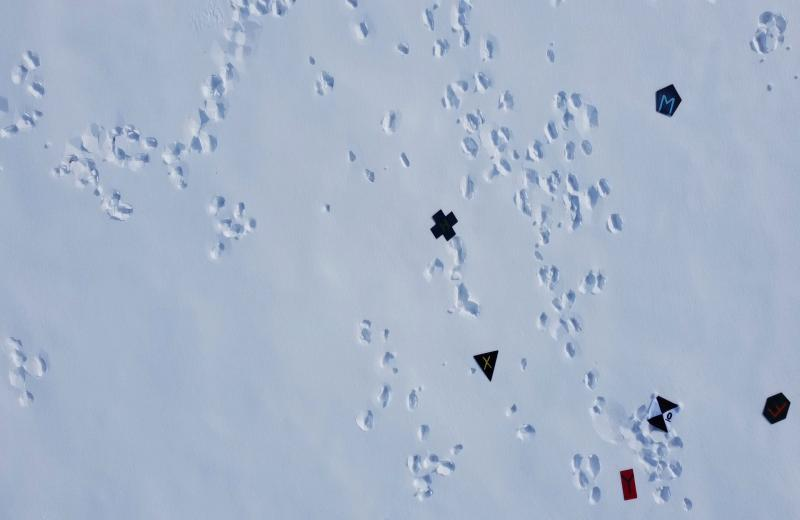Cross: (427, 199, 462, 247)
Hexagon: (757, 388, 795, 432)
Pentagon: (648, 79, 690, 126)
Rectangle: (609, 458, 651, 505)
Triangle: (469, 343, 510, 385)
